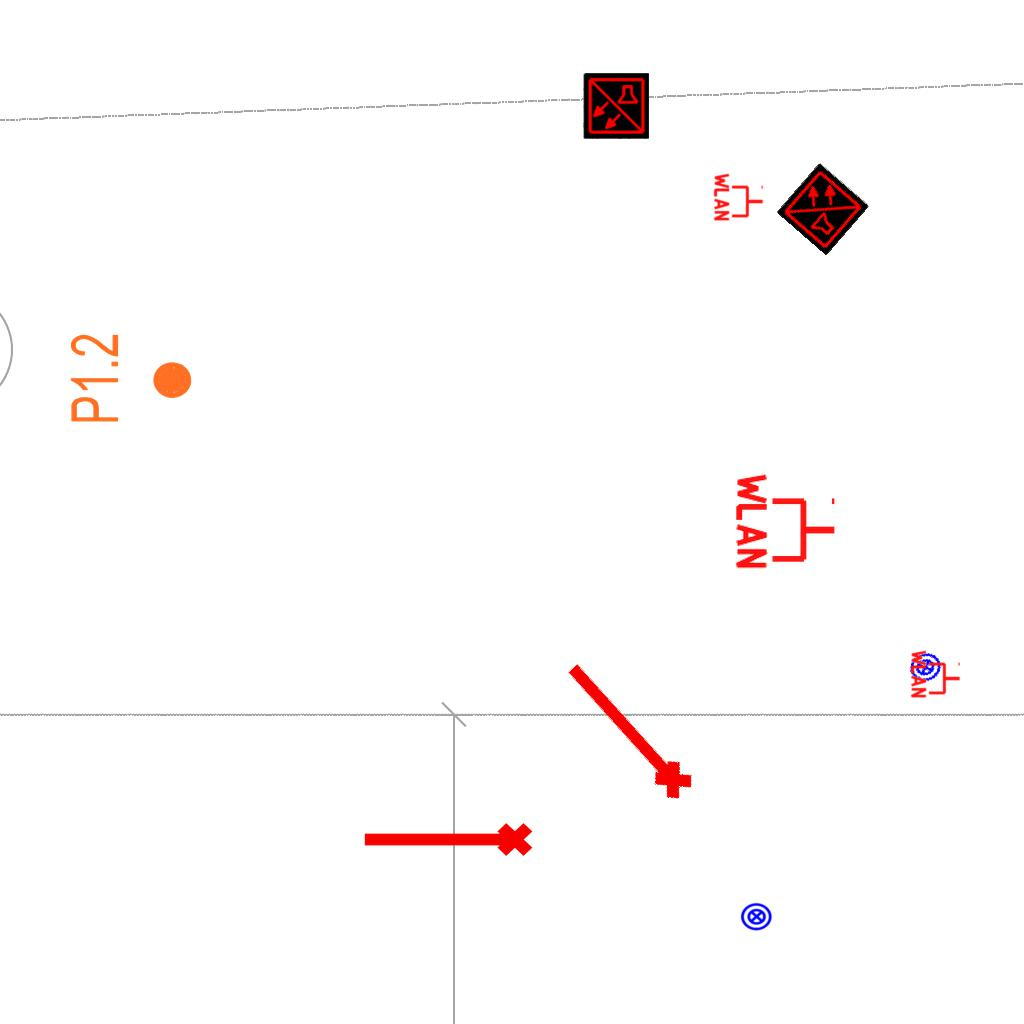ASR_Ansaugoeffnung: (550, 650, 702, 812), (359, 819, 535, 865)
Downlight_LED_Einbauleuchten_Flur: (67, 332, 195, 425)
OKW_Multisensormelder_(Kombination_optischer_Rauch-Kahlenmonoxid_Waerme-Melder): (776, 162, 870, 256), (583, 73, 649, 139)
Taster_beleuchtet: (904, 646, 947, 689), (740, 900, 773, 933)
WLAN: (734, 469, 839, 573), (713, 171, 765, 223), (910, 648, 962, 700)
